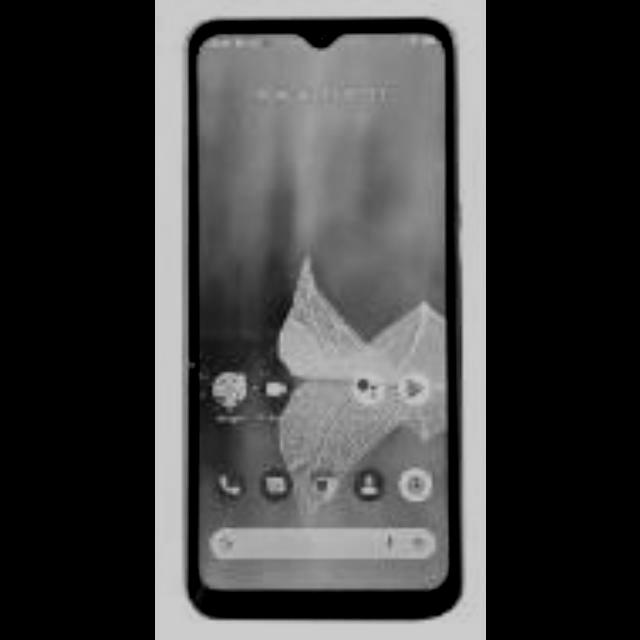fake: (180, 22, 464, 608)
